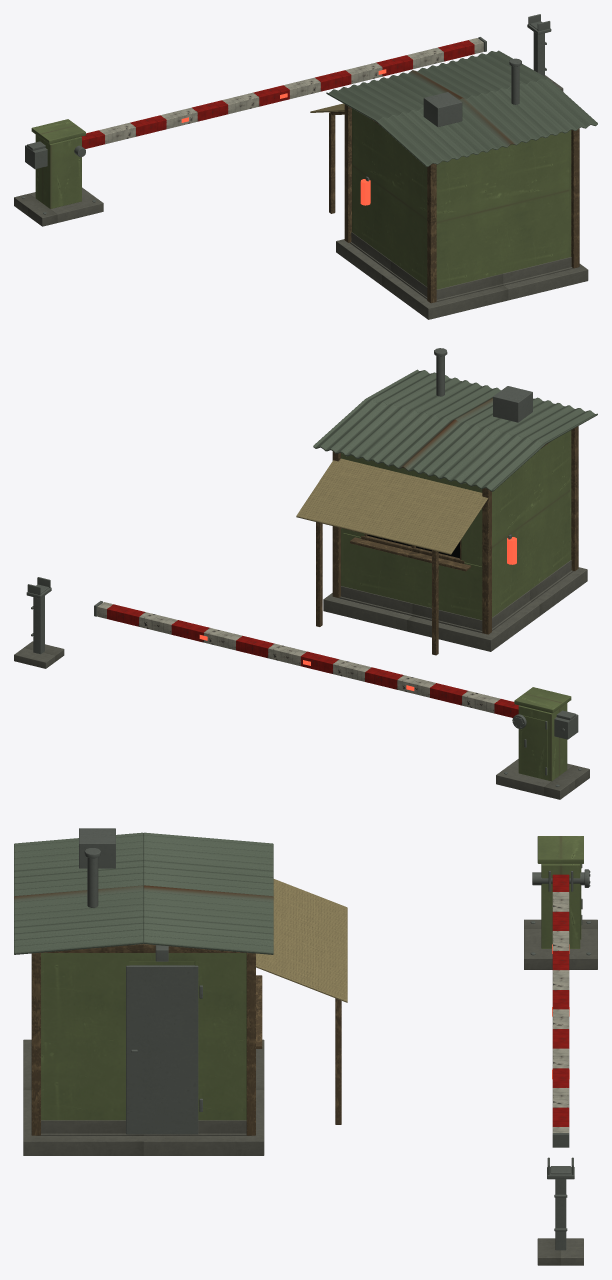
The model's file is wachtpost.glb.
3 renders of one model, top to bottom at view 1: azimuth 30°, elevation 25°; view 2: azimuth 150°, elevation 25°; view 3: azimuth 270°, elevation 25°, orthographic. The views are drawn at different scales.
Visible parts, largest first — view 1: Wachthuis_olive, Wachthuis_roof, Wachthuis_concrete, Boom_verf, Wachthuis_timber, Slagboom_olive, Slagboom_concrete, Wachthuis_steel, Slagboom_steel, Boom_steel; view 2: Wachthuis_olive, Wachthuis_roof, Wachthuis_canvas, Wachthuis_concrete, Boom_verf, Wachthuis_timber, Slagboom_olive, Slagboom_concrete, Wachthuis_steel, Slagboom_steel, Boom_steel; view 3: Wachthuis_roof, Wachthuis_olive, Wachthuis_steel, Wachthuis_concrete, Wachthuis_canvas, Wachthuis_timber, Boom_verf, Slagboom_olive, Slagboom_concrete, Slagboom_steel.
Part boxes in pixels (bbox=[...]): Wachthuis_olive: bbox=[352, 108, 571, 289]; Wachthuis_roof: bbox=[326, 50, 597, 166]; Wachthuis_concrete: bbox=[336, 232, 588, 319]; Boom_verf: bbox=[81, 38, 483, 148]; Wachthuis_timber: bbox=[329, 104, 579, 303]; Slagboom_olive: bbox=[31, 119, 85, 208]; Slagboom_concrete: bbox=[14, 75, 563, 226]; Wachthuis_steel: bbox=[365, 58, 521, 181]; Slagboom_steel: bbox=[21, 14, 551, 214]; Boom_steel: bbox=[25, 37, 486, 169]; Wachthuis_olive: bbox=[341, 430, 571, 620]; Wachthuis_roof: bbox=[313, 369, 597, 491]; Wachthuis_canvas: bbox=[296, 458, 487, 554]; Wachthuis_concrete: bbox=[323, 560, 587, 651]; Boom_verf: bbox=[97, 602, 556, 717]; Wachthuis_timber: bbox=[316, 426, 578, 655]; Slagboom_olive: bbox=[514, 687, 571, 781]; Slagboom_concrete: bbox=[14, 641, 589, 799]; Wachthuis_steel: bbox=[434, 348, 532, 539]; Slagboom_steel: bbox=[26, 577, 581, 786]; Boom_steel: bbox=[94, 601, 578, 739]; Wachthuis_roof: bbox=[14, 832, 273, 954]; Wachthuis_olive: bbox=[41, 953, 246, 1120]; Wachthuis_steel: bbox=[79, 828, 202, 1134]; Wachthuis_concrete: bbox=[23, 1039, 264, 1155]; Wachthuis_canvas: bbox=[256, 879, 347, 1002]; Wachthuis_timber: bbox=[31, 944, 341, 1135]; Boom_verf: bbox=[552, 874, 569, 1132]; Slagboom_olive: bbox=[537, 836, 583, 948]; Slagboom_concrete: bbox=[524, 919, 597, 1265]; Slagboom_steel: bbox=[530, 864, 591, 1250].
Size of the model in its own units: 8.55 by 3.29 by 6.3.
9 materials, 7 textured.
